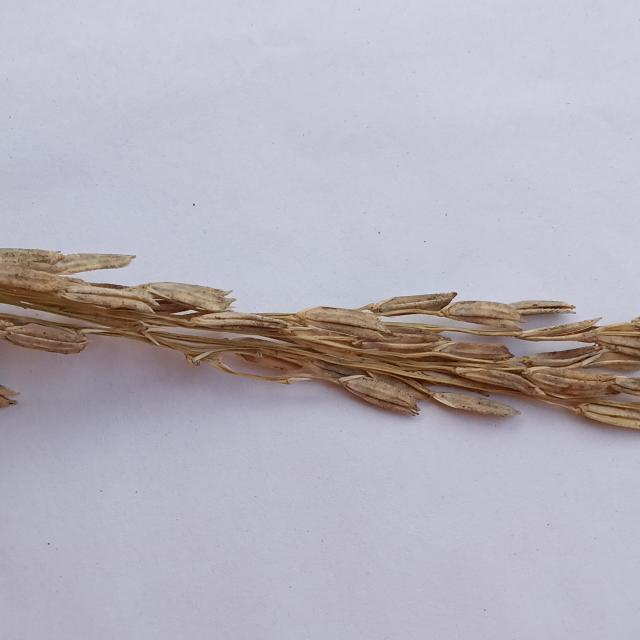Neck_Blast: (0, 246, 640, 439)
